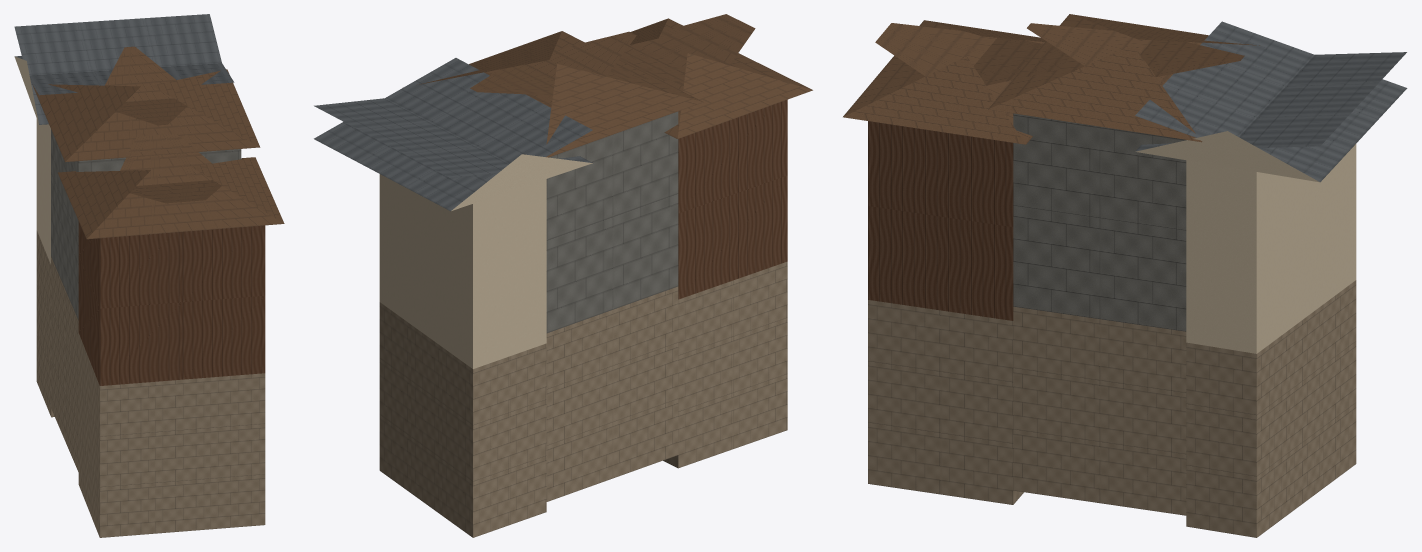
The model's file is bld_c13_46_504.gltf.
3 renders of one model, left to right at view 1: azimuth 30°, elevation 25°; view 2: azimuth 150°, elevation 25°; view 3: azimuth 270°, elevation 25°, orthographic. The views are drawn at different scales.
Parts seen in each view (by area): view 1: bld_c13_46_504; view 2: bld_c13_46_504; view 3: bld_c13_46_504.
Boxes of the visible parts, x1,y1,x2,y2 form: bld_c13_46_504: (14, 14, 284, 537); bld_c13_46_504: (314, 14, 812, 537); bld_c13_46_504: (843, 14, 1407, 537).
Bounding box in the file's own units: 10.07 × 12.1 × 14.19.
Materials: 7 (7 with a texture image).
